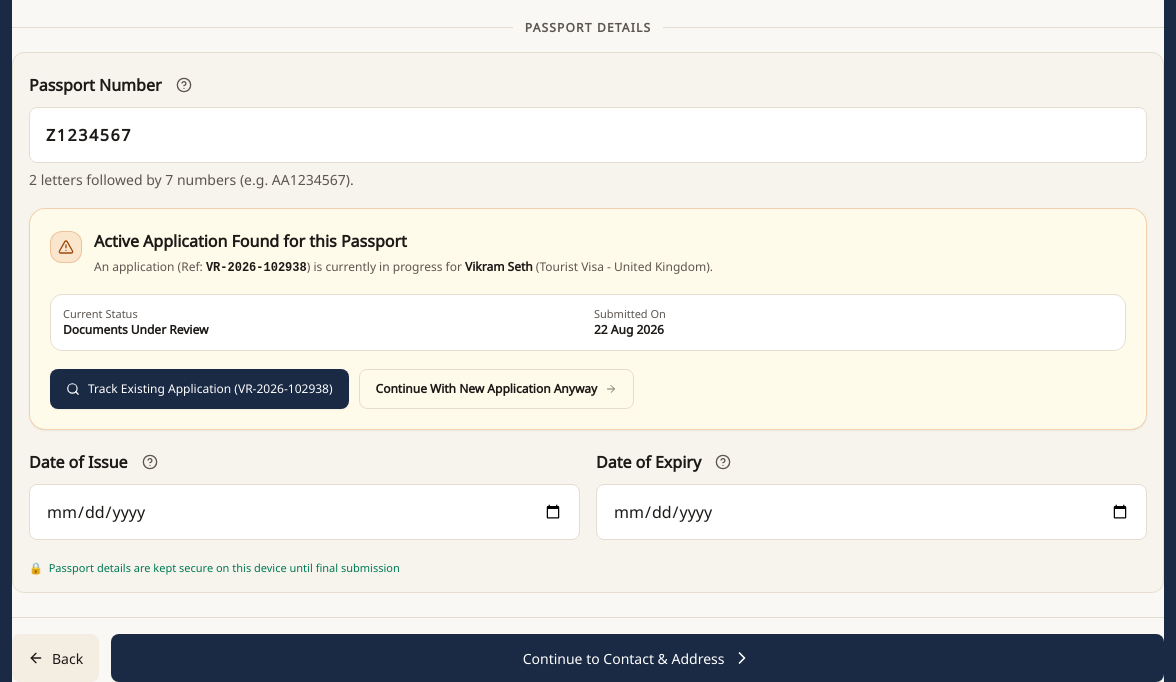
it: IdentityStep Component (Stage 2a) › shows duplicate passport warning for seeded passport Z1234567 and allows dismiss
This screenshot has width=1176, height=682.
(page scrolled)
Expected: the message with test id "duplicate-passport-warning-card" is shown, x1=29 y1=208 x2=1147 y2=430
Expected: the heading "Active Application Found for this Passport" is shown, x1=94 y1=230 x2=407 y2=252
Click the button with test id "dismiss-duplicate-warning-btn" at (496, 389), box x1=359 y1=369 x2=634 y2=409
(page scrolled)
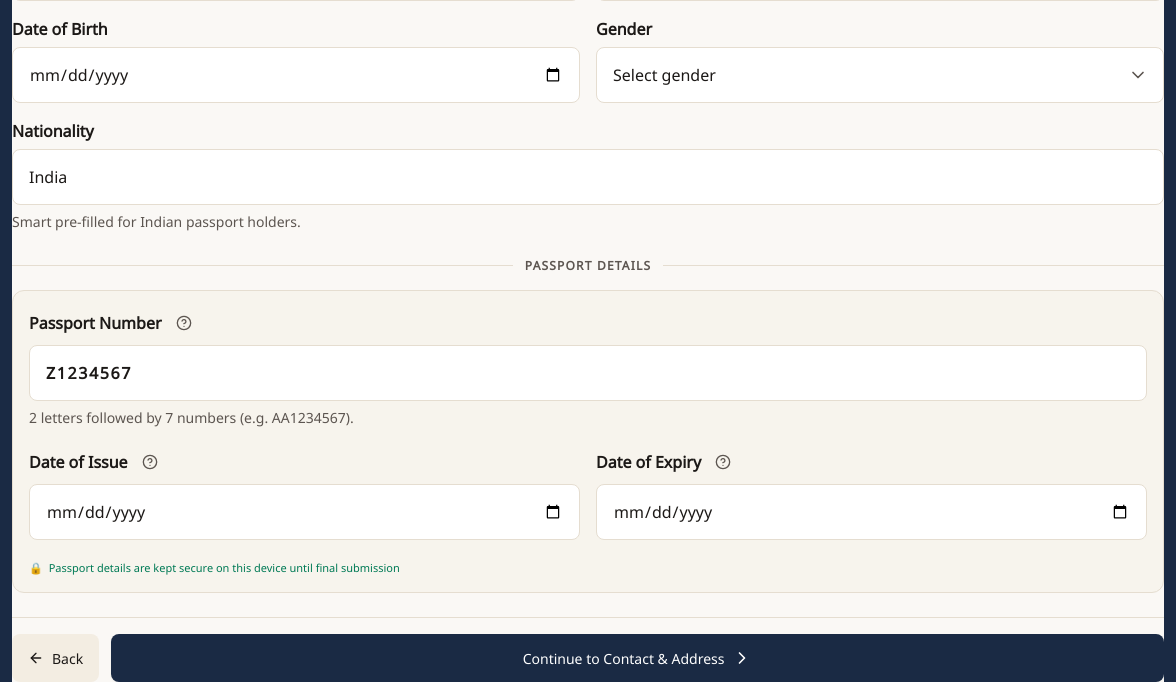
Expected: the message with test id "duplicate-passport-warning-card" is gone
